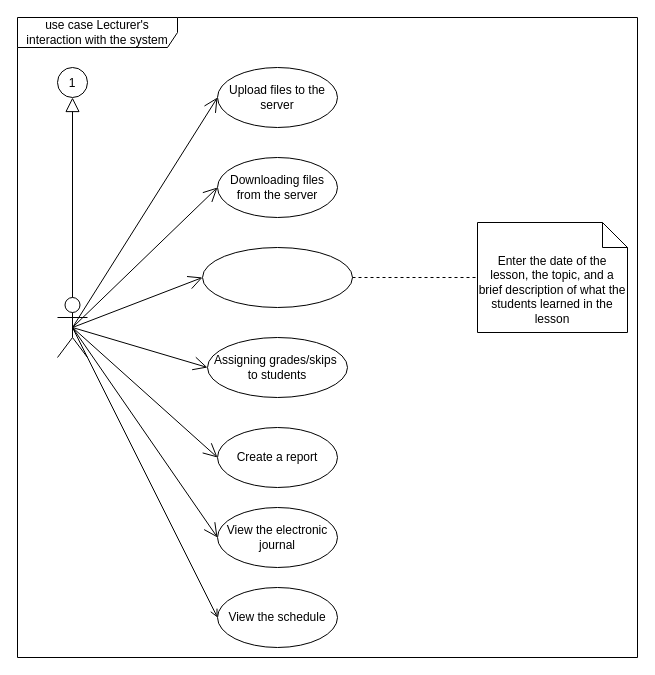
This 655x675 diagram has some shape labels left out. The shapes that lost their labels are listed below. From the top down, each one's centre as x and y in pixels, then its label:
At point (277, 277): "Creating a lesson in an electronic journal".
At point (72, 327): "Lecturer".
